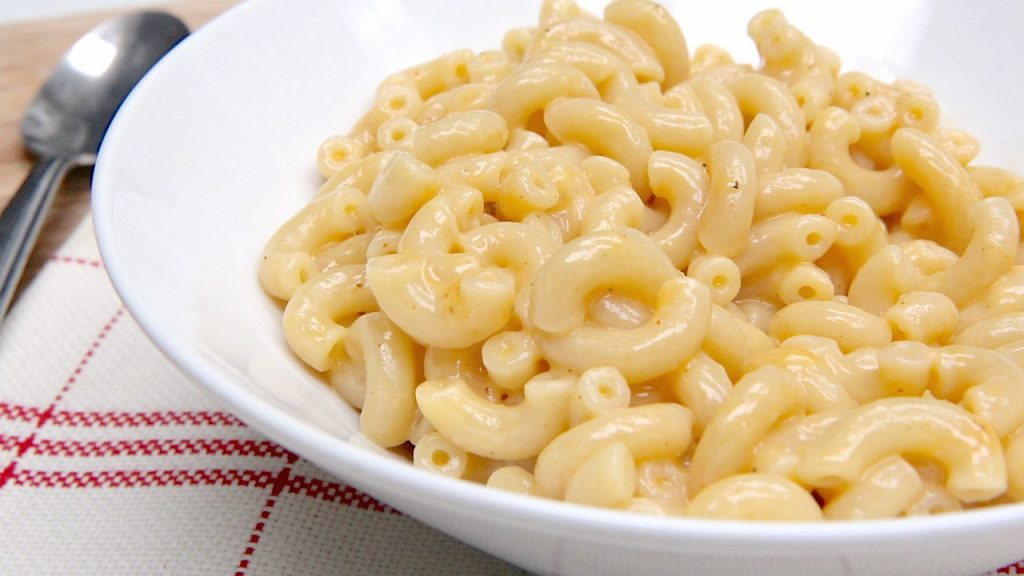macncheese: (166, 37, 1024, 558)
